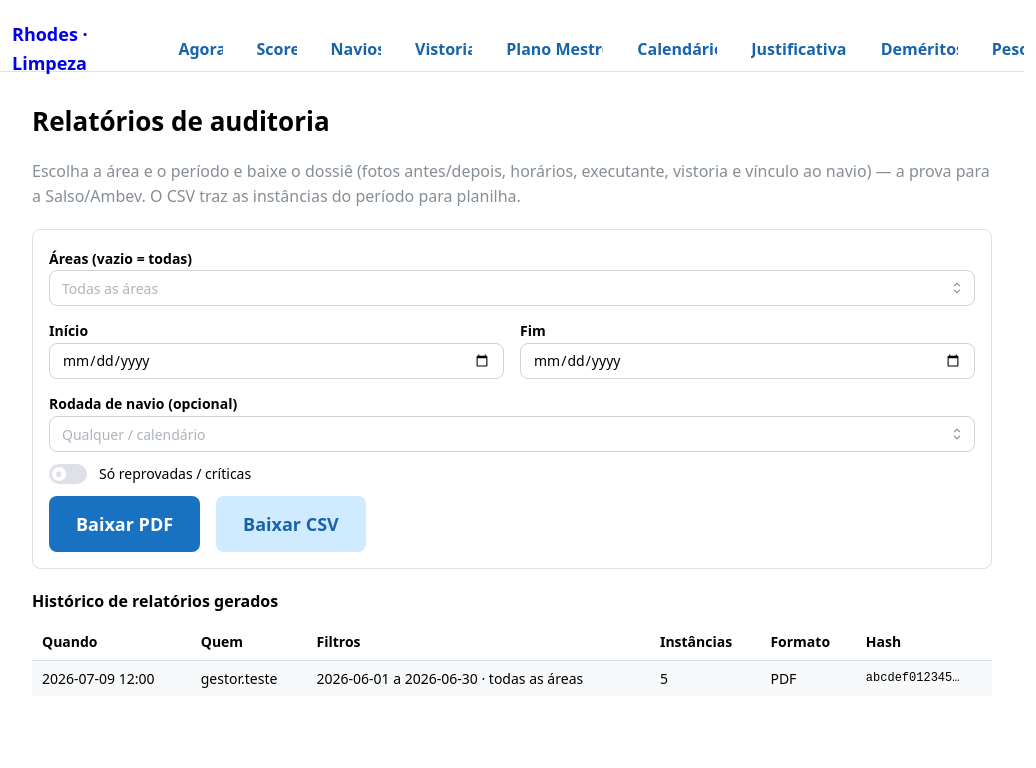
Relatórios (gestor) › período inválido (fim antes do início) mostra erro e NÃO dispara o download
Check: the button "Baixar PDF" is shown, box [76,512,173,536]
Type "2026-06-30" into the date field labelled "Início" at (276, 361), box [49,343,504,379]
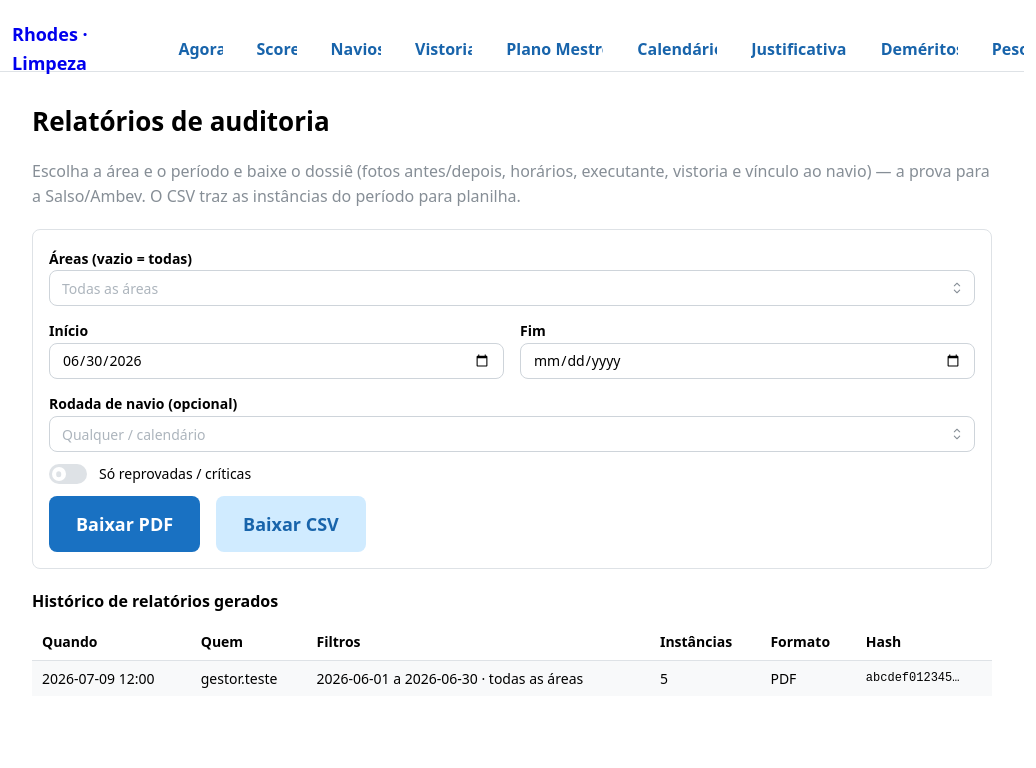
Type "2026-06-01" into the date field labelled "Fim" at (748, 361), box [520,343,975,379]
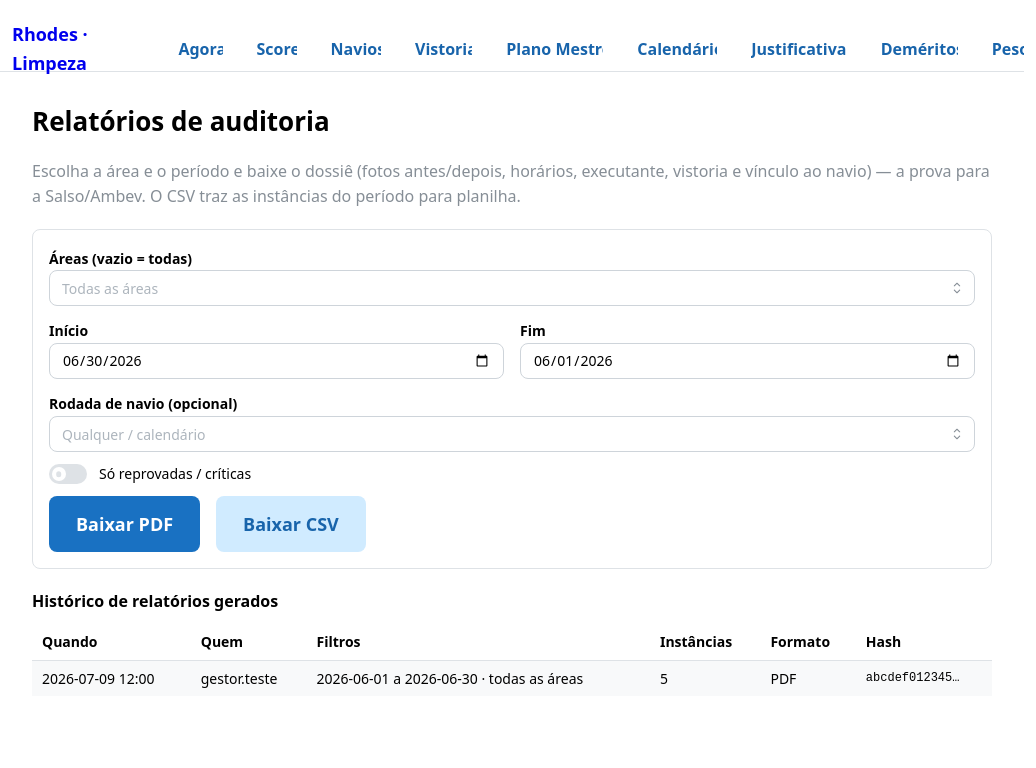
Click the button "Baixar PDF" at (125, 524), box [49,496,200,552]
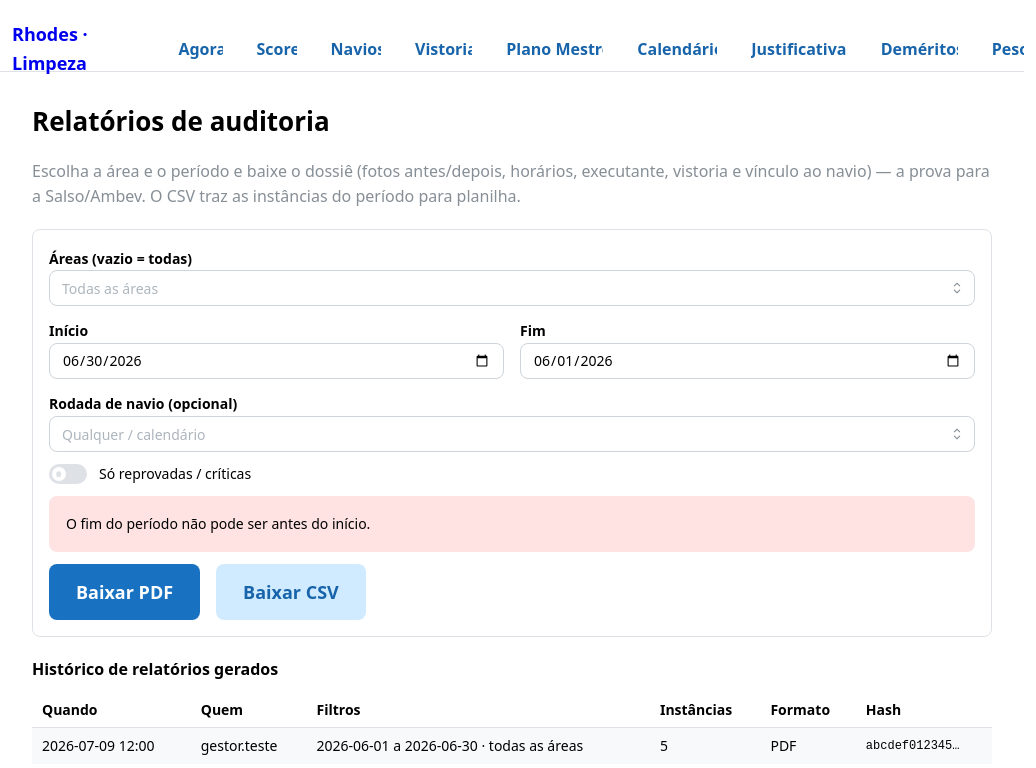
Check: the text "O fim do período não pode ser antes do início." is shown, box [66,514,370,533]
